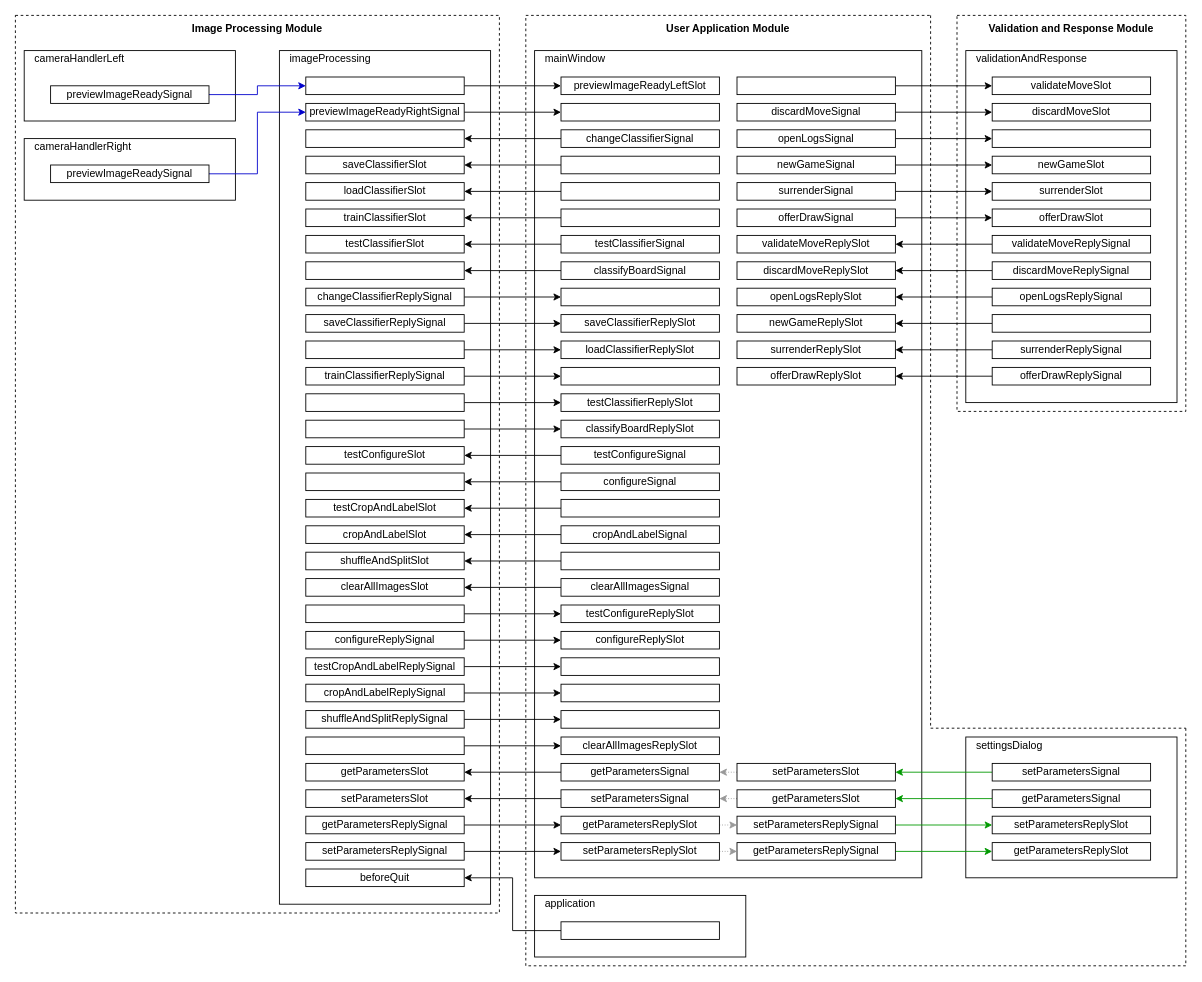
The diagram is 1202 pixels wide and 982 high, and some of its shapes have lost their labels. Here are the shapes that lost their labels. From the top down, the centre of each, then its label:
At (x=384, y=85): "previewImageReadyLeftSignal".
At (x=815, y=85): "validateMoveSignal".
At (x=639, y=112): "previewImageReadyRightSlot".
At (x=384, y=138): "changeClassifierSlot".
At (x=1071, y=138): "openLogsSlot".
At (x=639, y=164): "saveClassifierSignal".
At (x=639, y=191): "loadClassifierSignal".
At (x=639, y=217): "trainClassifierSignal".
At (x=384, y=270): "classifyBoardSlot".
At (x=639, y=296): "changeClassifierReplySlot".
At (x=1071, y=323): "newGameReplySignal".
At (x=384, y=349): "loadClassifierReplySignal".
At (x=639, y=376): "trainClassifierReplySlot".
At (x=384, y=402): "testClassifierReplySignal".
At (x=384, y=428): "classifyBoardReplySignal".
At (x=384, y=481): "configureSlot".
At (x=639, y=508): "testCropAndLabelSignal".
At (x=639, y=560): "shuffleAndSplitSignal".
At (x=384, y=613): "testConfigureReplySignal".
At (x=639, y=666): "testCropAndLabelReplySlot".
At (x=639, y=692): "cropAndLabelReplySlot".
At (x=639, y=719): "shuffleAndSplitReplySlot".
At (x=384, y=745): "clearAllImagesReplySignal".
At (x=639, y=930): "aboutToQuit".
